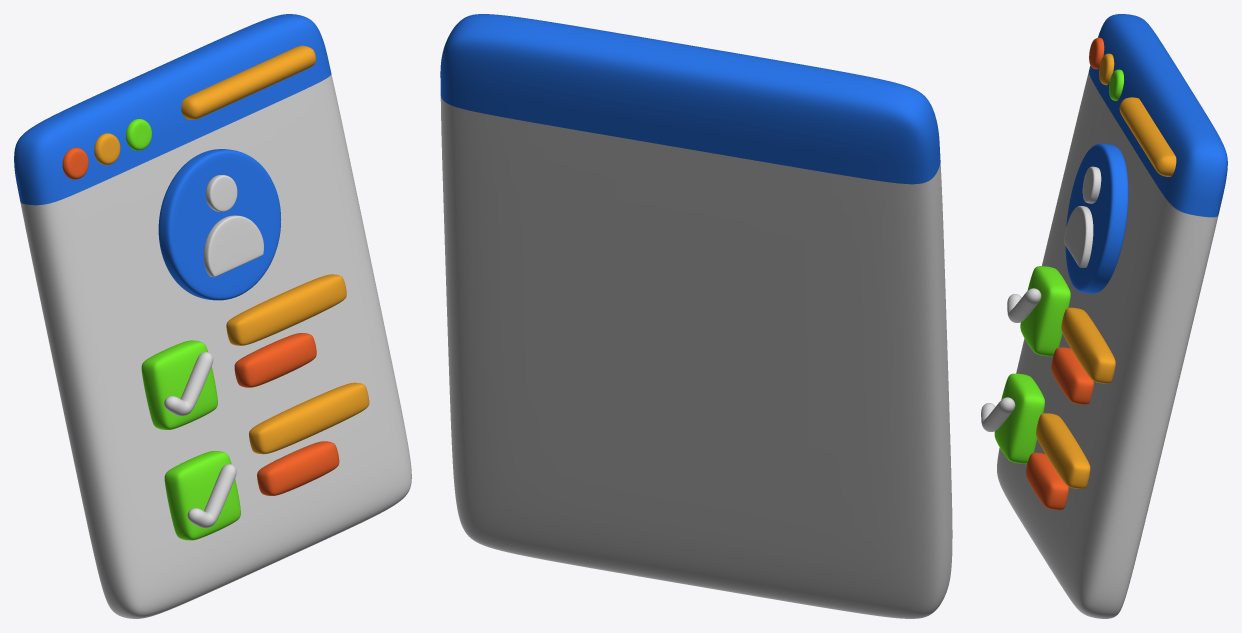
File: business-profile-3d-animated-icon-1291393201058.glb
3 renders of one model, left to right at view 1: azimuth 30°, elevation 25°; view 2: azimuth 150°, elevation 25°; view 3: azimuth 270°, elevation 25°, orthographic. The views are drawn at different scales.
Parts seen in each view (by area): view 1: board, circle, data 1, data 3, box 1, box 2, icon people, element 1, data 4, data 2, button, checklist 2 (+1 smaller); view 2: board; view 3: board, circle, box 1, box 2, data 1, data 3, element 1, icon people, data 2, data 4, button, checklist 1 (+1 smaller).
Part boxes in pixels (x1,y1,x2,y2): board: (14, 14, 411, 618); circle: (158, 149, 281, 300); data 1: (226, 274, 346, 345); data 3: (249, 382, 369, 454); box 1: (141, 340, 217, 429); box 2: (164, 451, 240, 540); icon people: (203, 175, 263, 277); element 1: (181, 45, 316, 119); data 4: (257, 441, 339, 495); data 2: (234, 333, 316, 387); button: (62, 119, 151, 179); checklist 2: (187, 464, 236, 528); board: (440, 14, 952, 618); board: (997, 14, 1227, 618); circle: (1065, 143, 1128, 293); box 1: (1020, 266, 1070, 356); box 2: (994, 373, 1044, 463); data 1: (1061, 307, 1115, 383); data 3: (1036, 413, 1090, 488); element 1: (1119, 97, 1176, 176); icon people: (1064, 166, 1101, 267); data 2: (1051, 347, 1093, 404); data 4: (1026, 452, 1068, 510); button: (1089, 37, 1124, 100); checklist 1: (1007, 288, 1041, 322).
Size of the model in its own units: 2.4 by 2.89 by 1.37.
